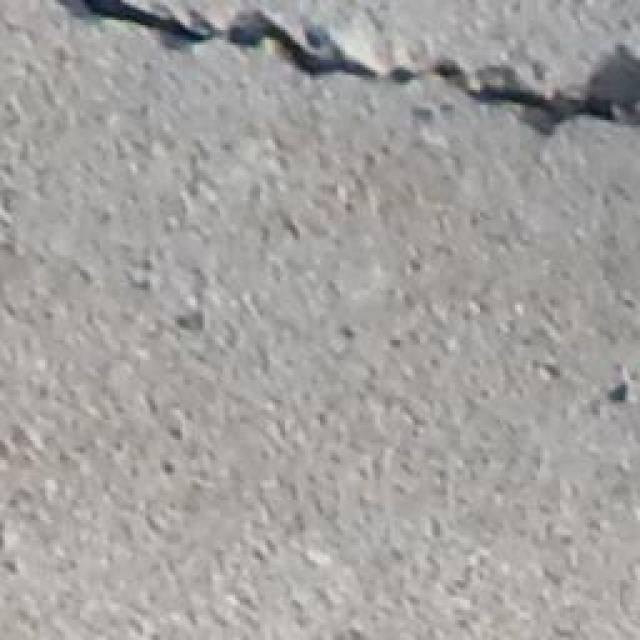concrete-crack: (53, 0, 640, 148)
